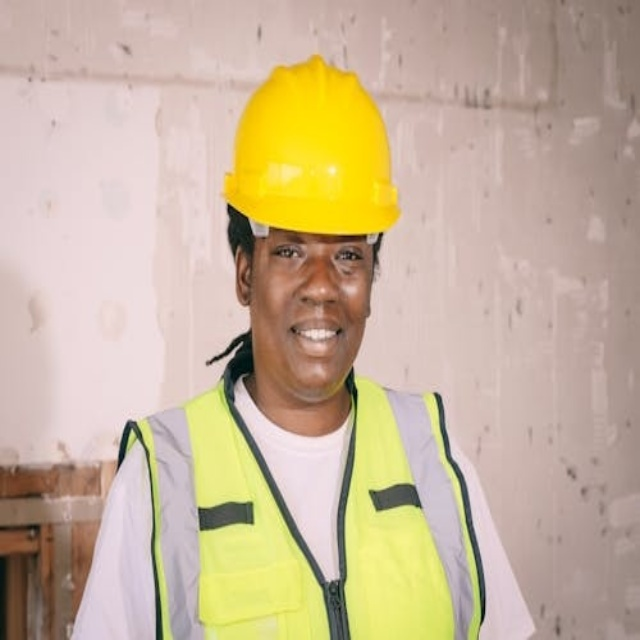Sin_gafas: (265, 234, 374, 280)
Sin_mascara: (279, 311, 353, 375)
